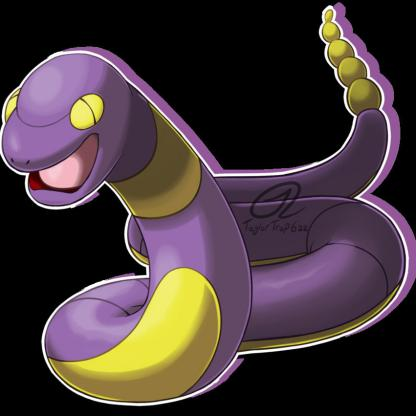Ekans: (1, 1, 416, 407)
